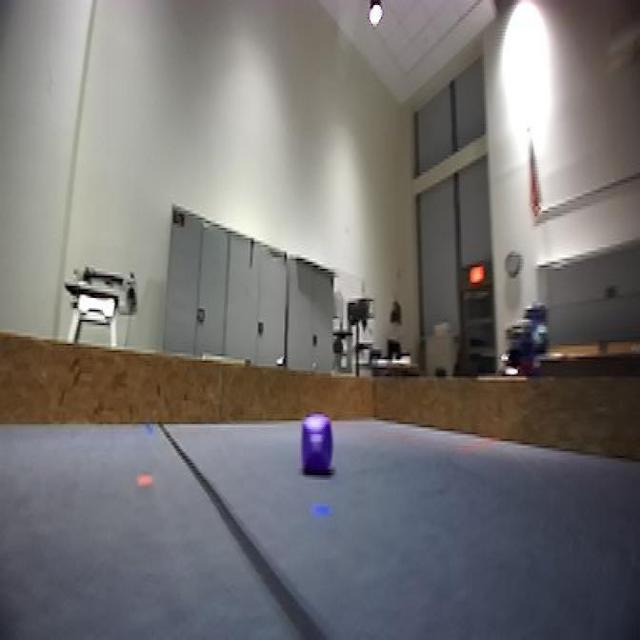frc_cube: (300, 418, 335, 476)
